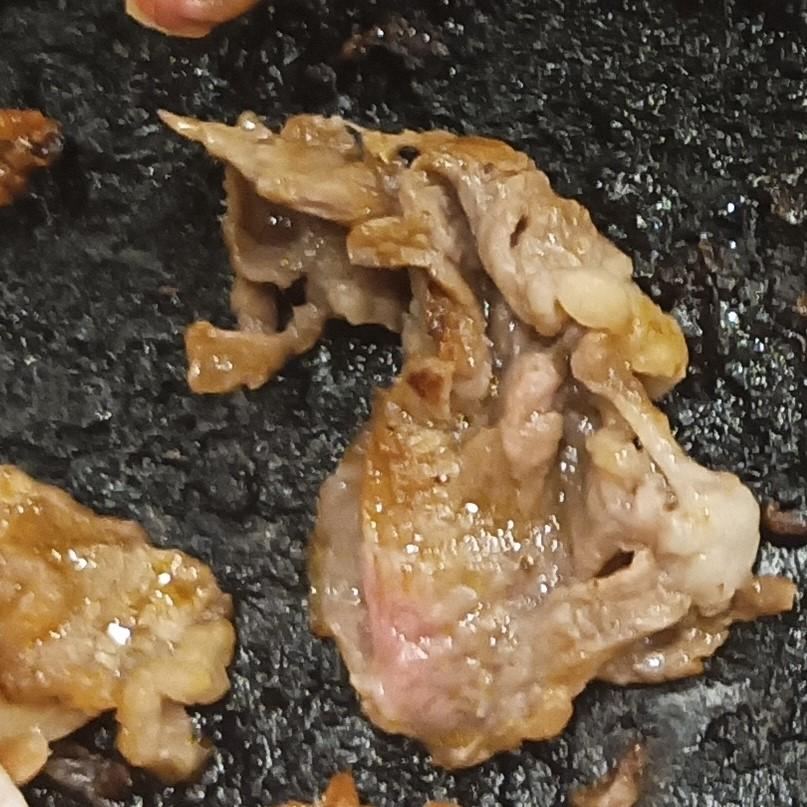Well-Cooked: (157, 114, 797, 772), (0, 463, 236, 790)
